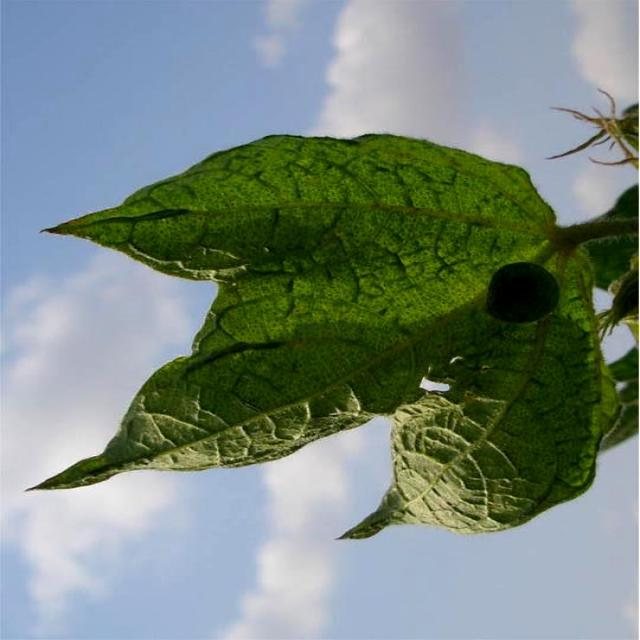Leaf Curl Virus: (184, 136, 594, 506)
